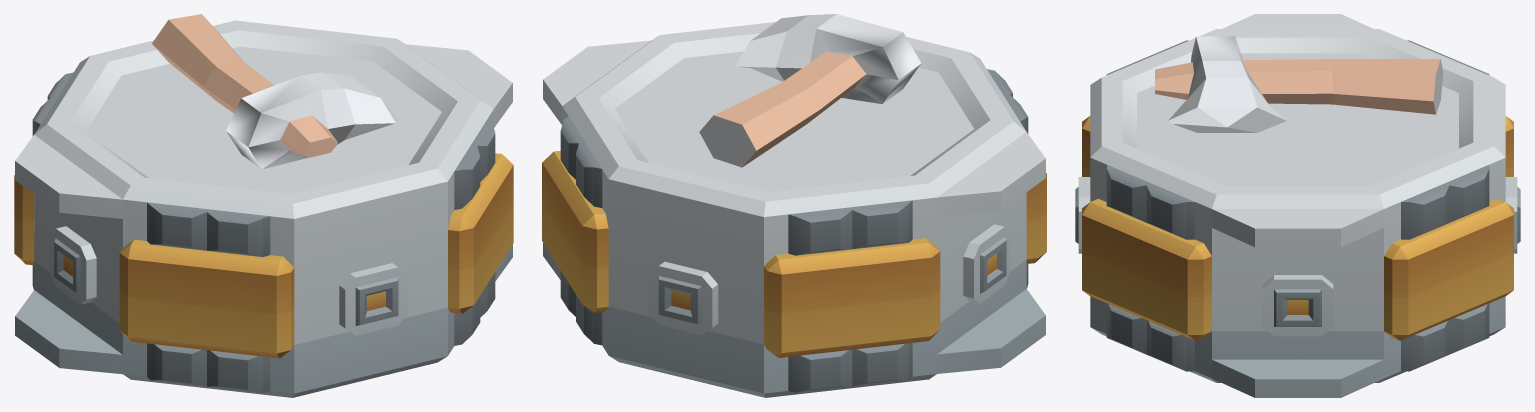
The model's file is Lumbering.glb.
3 views of the same model, side by side, from view 1: azimuth 30°, elevation 25°; view 2: azimuth 150°, elevation 25°; view 3: azimuth 270°, elevation 25° (orthographic). The views are drawn at different scales.
Visible parts, largest first — view 1: basemodule_D_Cylinder.2720, axe; view 2: basemodule_D_Cylinder.2720, axe; view 3: basemodule_D_Cylinder.2720, axe.
Part boxes in pixels (box(x1,y1,x2,y2)): basemodule_D_Cylinder.2720: box(14, 20, 513, 397); axe: box(152, 14, 399, 169); basemodule_D_Cylinder.2720: box(542, 22, 1046, 397); axe: box(699, 14, 921, 167); basemodule_D_Cylinder.2720: box(1075, 14, 1520, 397); axe: box(1155, 36, 1443, 132).
Bounding box in the file's own units: 2.44 × 1.29 × 2.14.
3 materials, 1 textured.
